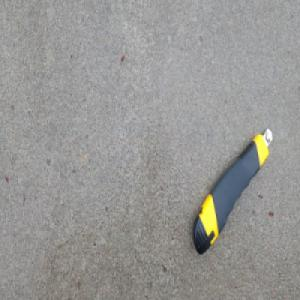Cutter: (191, 125, 273, 256)
